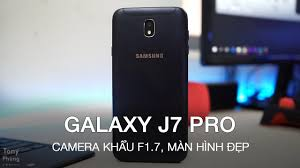samsung: (108, 3, 192, 163)
